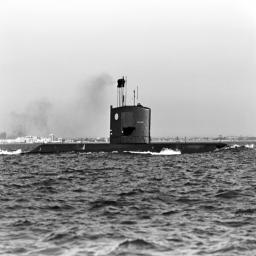submarine: (19, 106, 230, 156)
